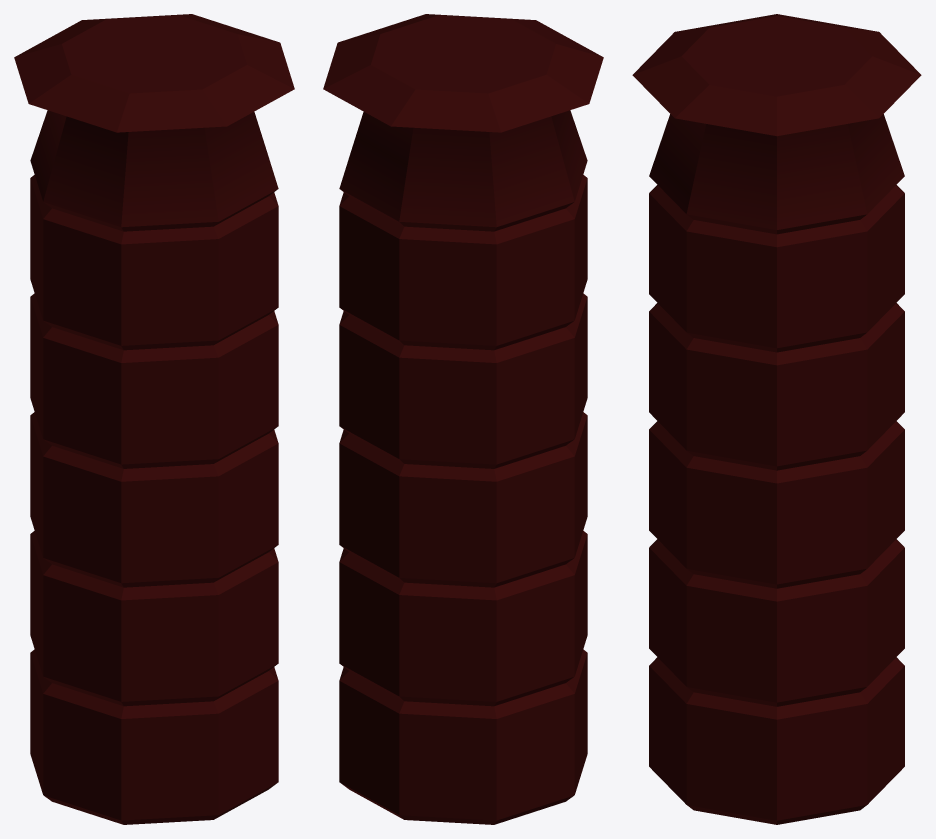
The model's file is column01.fbx.
The picture shows the model from 3 angles, left to right: view 1: azimuth 30°, elevation 25°; view 2: azimuth 150°, elevation 25°; view 3: azimuth 270°, elevation 25°; orthographic projection.
Parts seen in each view (by area): view 1: col_stone06, col_stone01, col_stone04, col_stone02, col_stone05, col_stone03; view 2: col_stone06, col_stone01, col_stone04, col_stone02, col_stone05, col_stone03; view 3: col_stone06, col_stone01, col_stone02, col_stone05, col_stone03, col_stone04.
Boxes of the visible parts, x1,y1,x2,y2 form: col_stone06: (14,14,294,231); col_stone01: (30,649,278,824); col_stone04: (30,293,278,468); col_stone02: (30,531,278,706); col_stone05: (30,175,278,350); col_stone03: (30,412,278,587); col_stone06: (323,14,603,231); col_stone01: (339,649,587,824); col_stone04: (339,293,587,468); col_stone02: (339,531,587,706); col_stone05: (339,175,587,350); col_stone03: (339,412,587,587); col_stone06: (632,14,921,234); col_stone01: (649,657,904,824); col_stone02: (649,539,904,706); col_stone05: (649,185,904,352); col_stone03: (649,421,904,588); col_stone04: (649,303,904,470).
Bounding box in the file's own units: 18.09 × 49.62 × 18.09.
